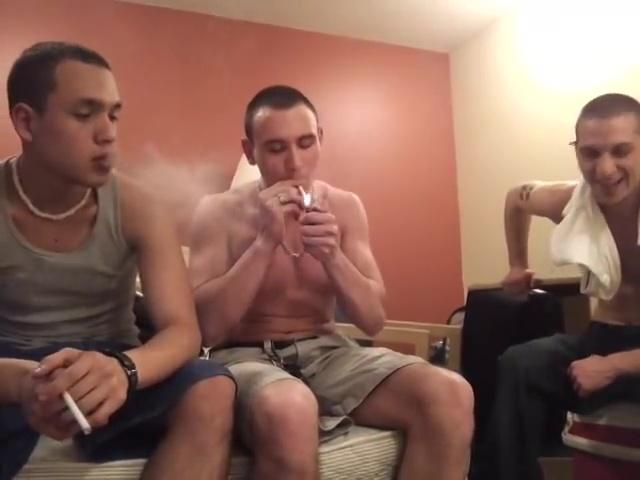cigarette: (59, 385, 96, 438), (298, 183, 312, 204)
